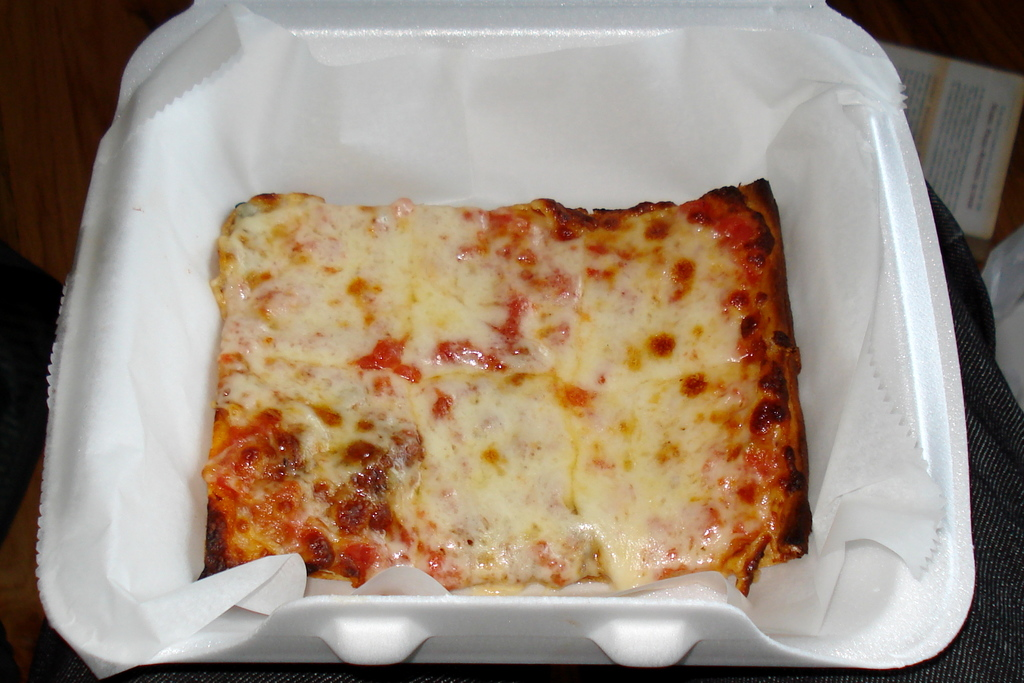Pizza: (177, 159, 812, 625)
